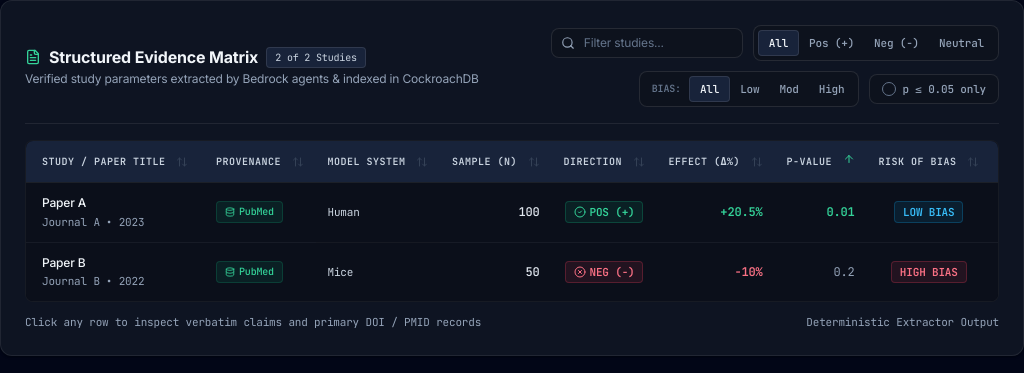
it: EvidenceMatrix › filters correctly using direction filter buttons
The image size is (1024, 373).
# Filter to POSITIVE
Click the button "Pos (+)" at (832, 43), box [799,31,864,55]
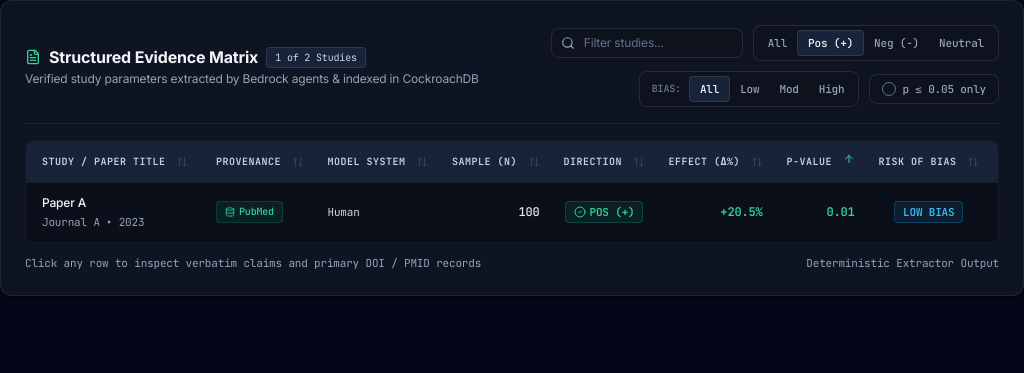
Expected: the text "Paper A" is shown, [42,195,86,210]
Expected: the text "Paper B" is gone
# Filter to NEGATIVE
Click the button "Neg (-)" at (897, 43), box [864,31,929,55]
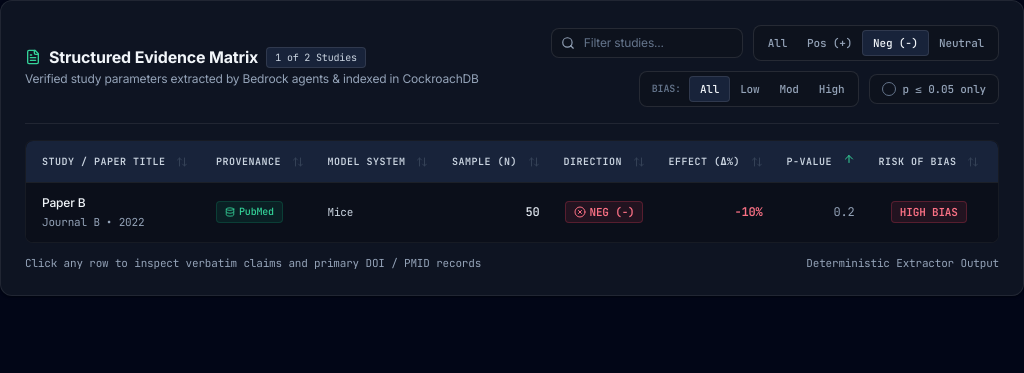
Expected: the text "Paper A" is gone
Expected: the text "Paper B" is shown, [42,195,86,210]
# Filter back to ALL (first 'All' button is the direction filter)
Click the 1st button "All" at (777, 43), box [758,31,797,55]
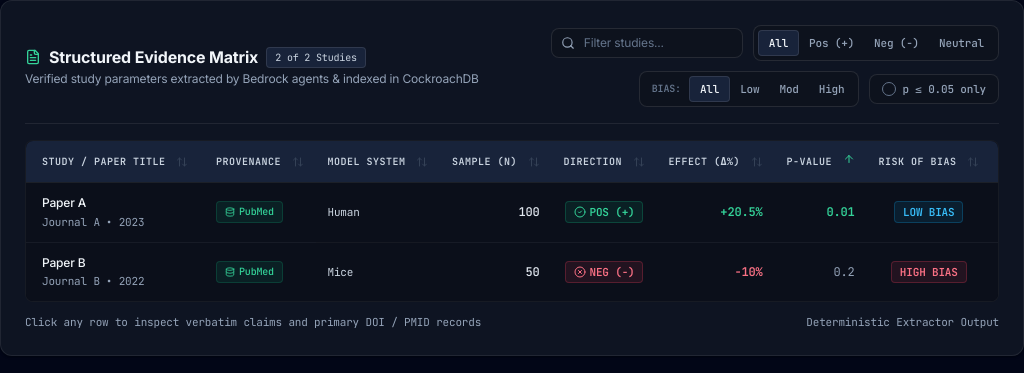
Expected: the text "Paper B" is shown, [42,254,86,270]
Expected: the text "Paper A" is shown, [42,195,86,210]
